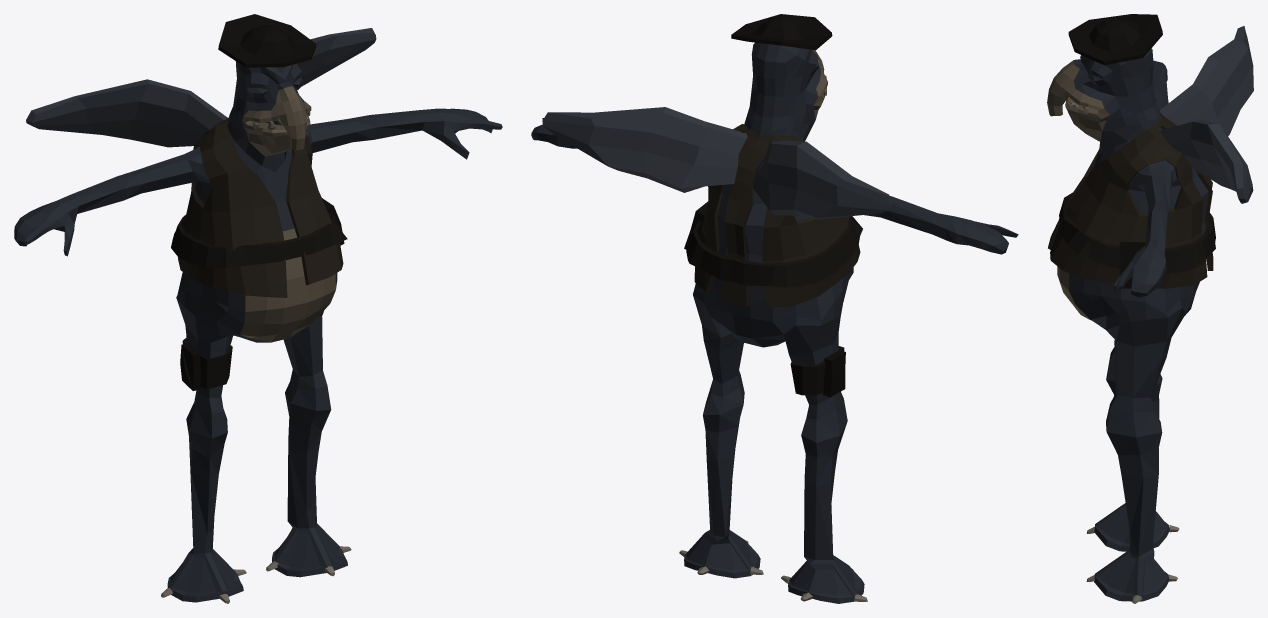
The model's file is Watto.fbx.
3 renders of one model, left to right at view 1: azimuth 30°, elevation 25°; view 2: azimuth 150°, elevation 25°; view 3: azimuth 270°, elevation 25°, orthographic. The views are drawn at different scales.
Visible parts, largest first — view 1: Watto; view 2: Watto; view 3: Watto.
Boxes of the visible parts, box(x1,y1,x2,y2) form: Watto: box(14, 14, 502, 603); Watto: box(531, 14, 1018, 603); Watto: box(1047, 14, 1253, 603).
Bounding box in the file's own units: 1.42 × 1.58 × 0.546.
